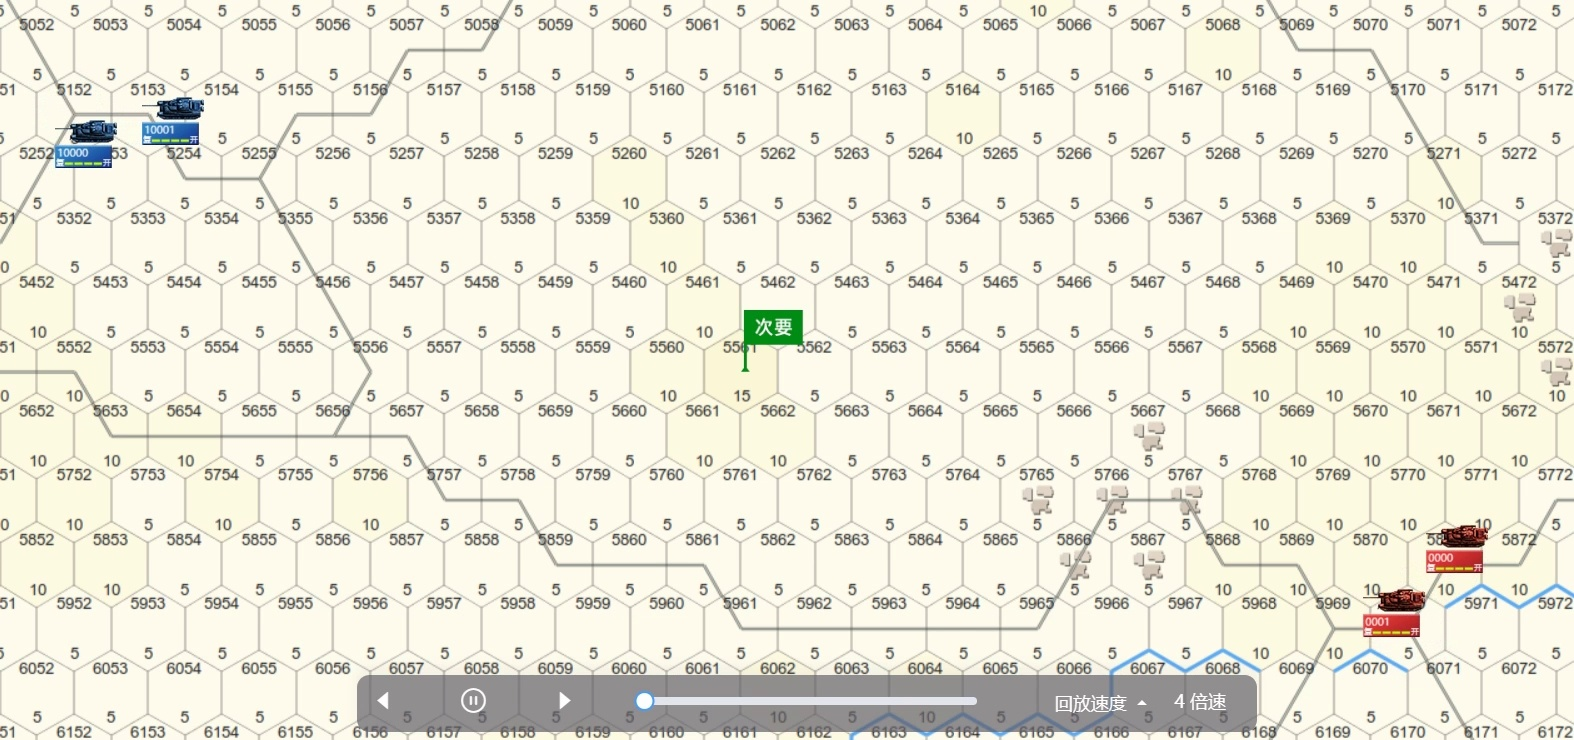blue_tank: (141, 95, 205, 158), (53, 118, 118, 174)
red_tank: (1424, 527, 1494, 581), (1362, 589, 1429, 641)
